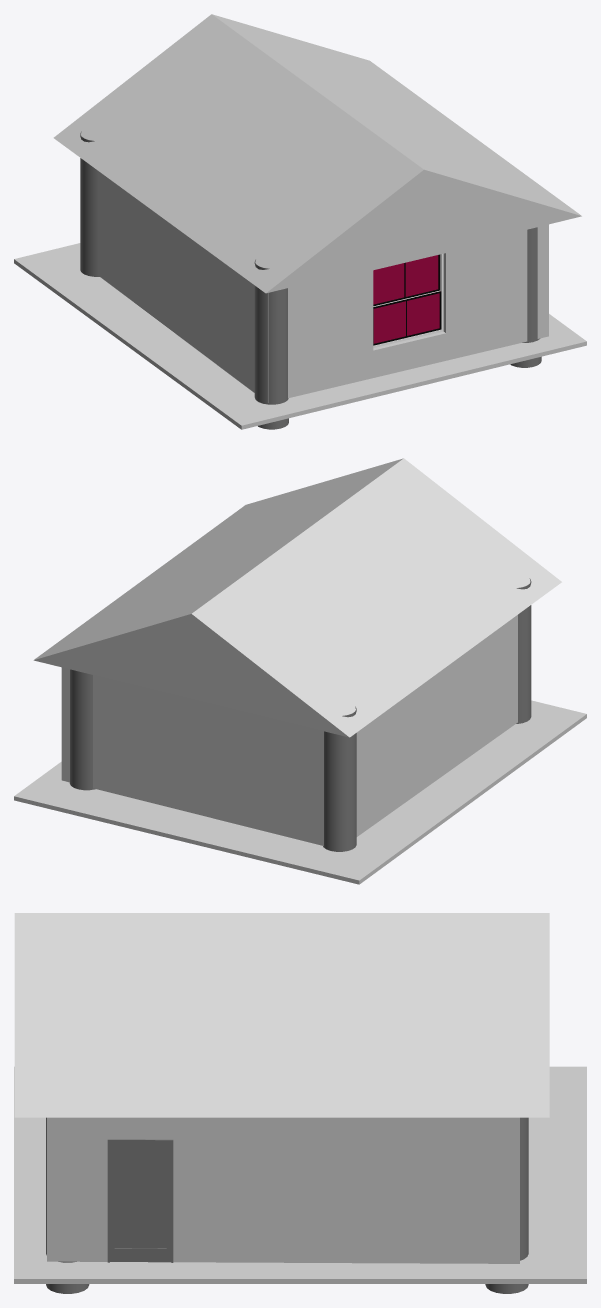
The picture shows the model from 3 angles, top to bottom: view 1: azimuth 30°, elevation 25°; view 2: azimuth 150°, elevation 25°; view 3: azimuth 270°, elevation 25°; orthographic projection. The views are drawn at different scales.
Visible parts, largest first — view 1: Box004, Wall001, Box001, SlidingWindow001, Tube003, Tube005, Tube002; view 2: Box004, Wall001, Box001, Tube005, Tube004, Tube003; view 3: Box004, Wall001, Box001, PivotDoor001, Tube004, Tube002.
Part boxes in pixels (box(x1,y1,x2,y2)): Box004: box(53, 14, 581, 293); Wall001: box(98, 171, 548, 402); Box001: box(14, 243, 586, 429); SlidingWindow001: box(373, 253, 443, 347); Tube003: box(254, 259, 288, 429); Tube005: box(80, 131, 99, 276); Tube002: box(510, 227, 541, 367); Box004: box(33, 458, 561, 737); Wall001: box(61, 615, 517, 845); Box001: box(14, 700, 586, 884); Tube005: box(323, 706, 356, 851); Tube004: box(69, 669, 95, 790); Tube003: box(516, 578, 531, 723); Box004: box(14, 913, 549, 1117); Wall001: box(47, 1117, 519, 1263); Box001: box(14, 1066, 586, 1283); PivotDoor001: box(107, 1139, 173, 1262); Tube004: box(485, 1117, 528, 1293); Tube002: box(46, 1117, 89, 1293).
Bounding box in the file's own units: 344 × 224 × 392.
